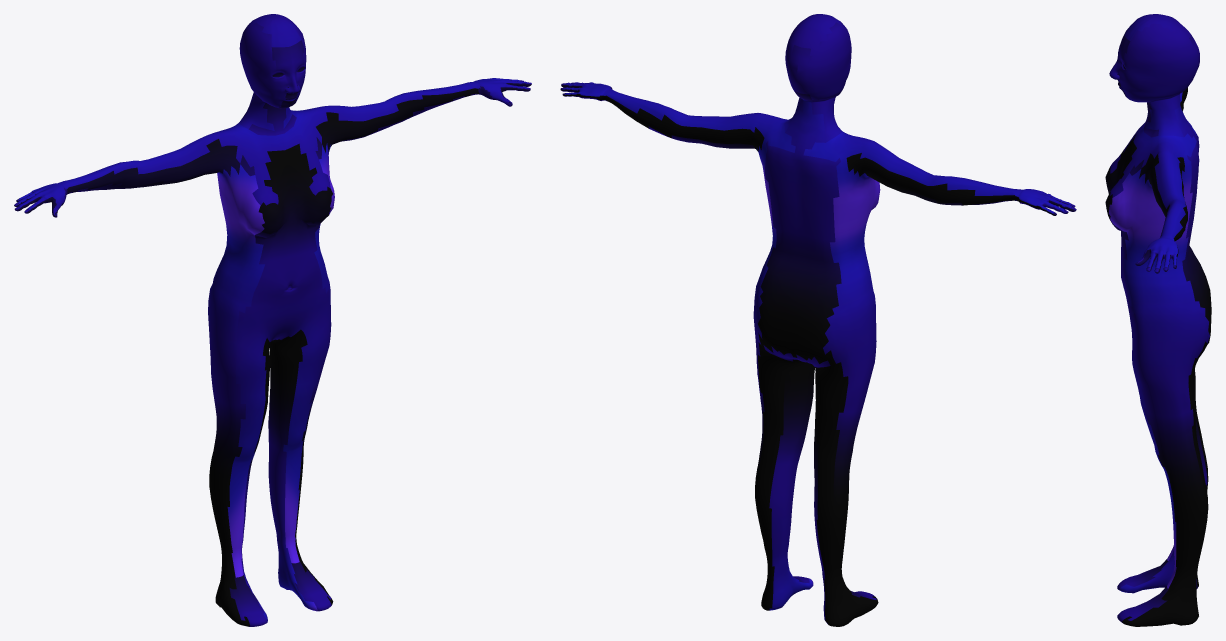
3 views of the same model, side by side, from view 1: azimuth 30°, elevation 25°; view 2: azimuth 150°, elevation 25°; view 3: azimuth 270°, elevation 25° (orthographic).
Visible parts, largest first — view 1: body1; view 2: body1; view 3: body1.
Part boxes in pixels (box(x1,y1,x2,y2)): body1: box(14, 14, 531, 626); body1: box(560, 14, 1076, 626); body1: box(1105, 14, 1211, 626).
Size of the model in its own units: 12.2 by 13.3 by 2.17.
